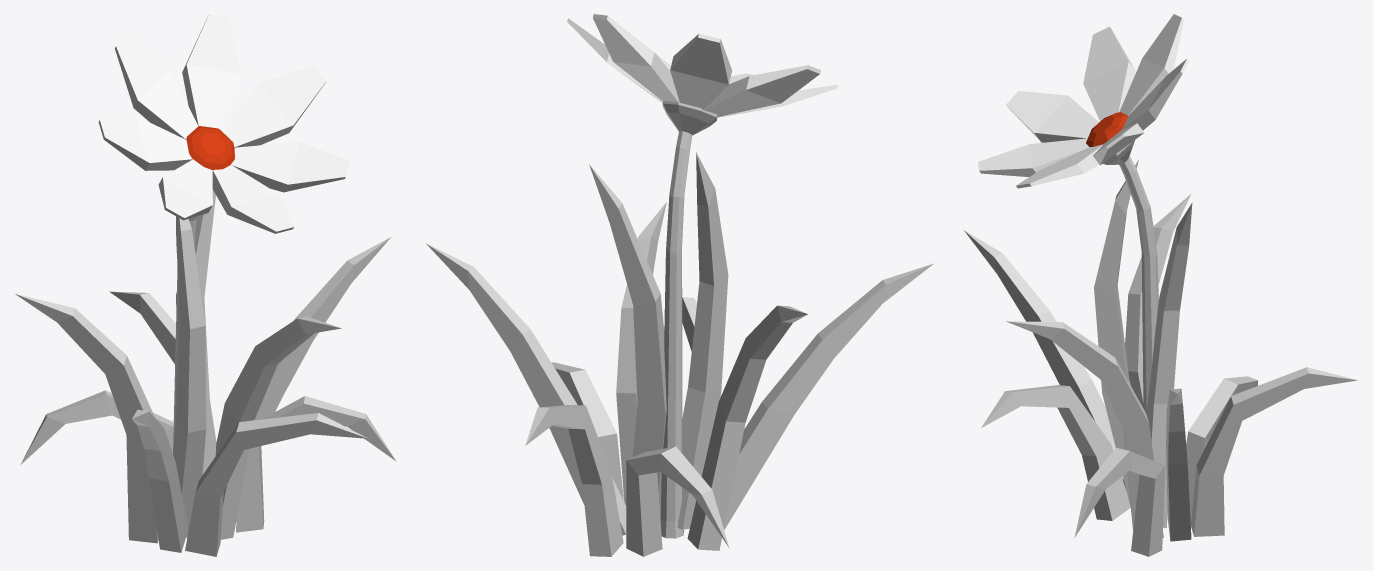
Rendered from flower_y.glb.
The picture shows the model from 3 angles, left to right: view 1: azimuth 30°, elevation 25°; view 2: azimuth 150°, elevation 25°; view 3: azimuth 270°, elevation 25°; orthographic projection. The views are drawn at different scales.
Visible parts, largest first — view 1: Cube.012; view 2: Cube.012; view 3: Cube.012.
Part boxes in pixels (x1,y1,x2,y2): Cube.012: (15, 14, 396, 556); Cube.012: (426, 14, 933, 556); Cube.012: (964, 14, 1357, 556).
Size of the model in its own units: 0.0808 by 0.1052 by 0.0774.
